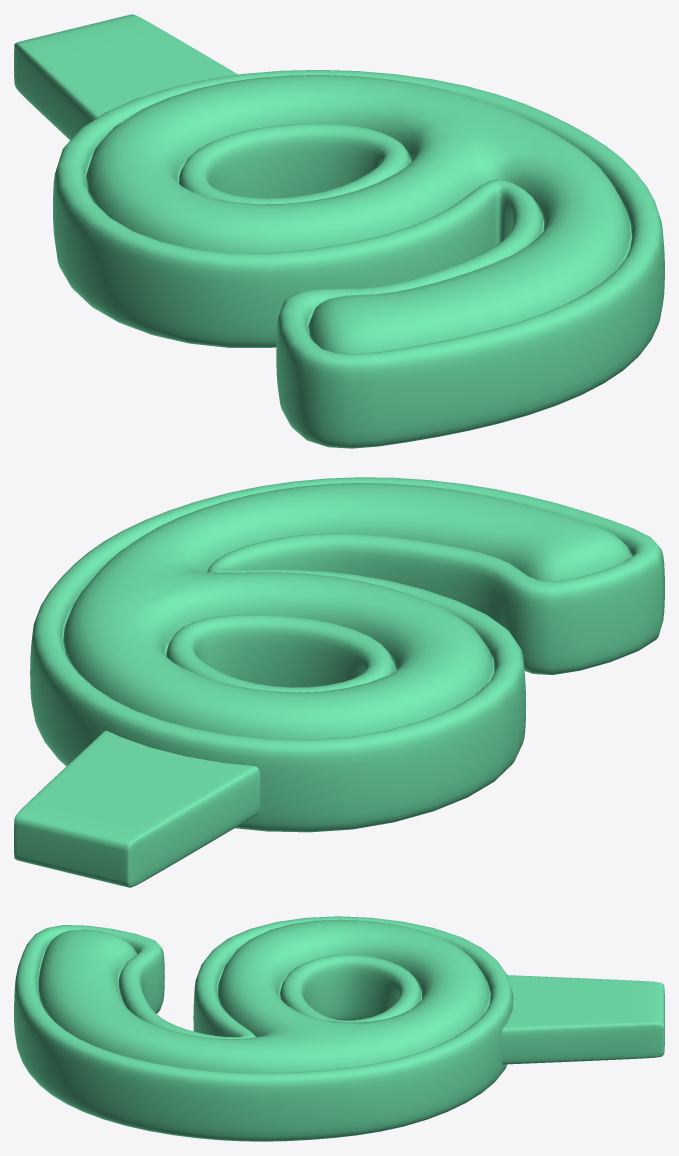
3 views of the same model, one above another, from view 1: azimuth 30°, elevation 25°; view 2: azimuth 150°, elevation 25°; view 3: azimuth 270°, elevation 25° (orthographic). The views are drawn at different scales.
Parts seen in each view (by area): view 1: _Number_6_v1:_Number_6_v1; view 2: _Number_6_v1:_Number_6_v1; view 3: _Number_6_v1:_Number_6_v1.
Boxes of the visible parts, bbox=[...] form: _Number_6_v1:_Number_6_v1: bbox=[14, 14, 664, 448]; _Number_6_v1:_Number_6_v1: bbox=[14, 477, 664, 887]; _Number_6_v1:_Number_6_v1: bbox=[14, 916, 664, 1141].
Bounding box in the file's own units: 7.81 × 1.98 × 12.82.
